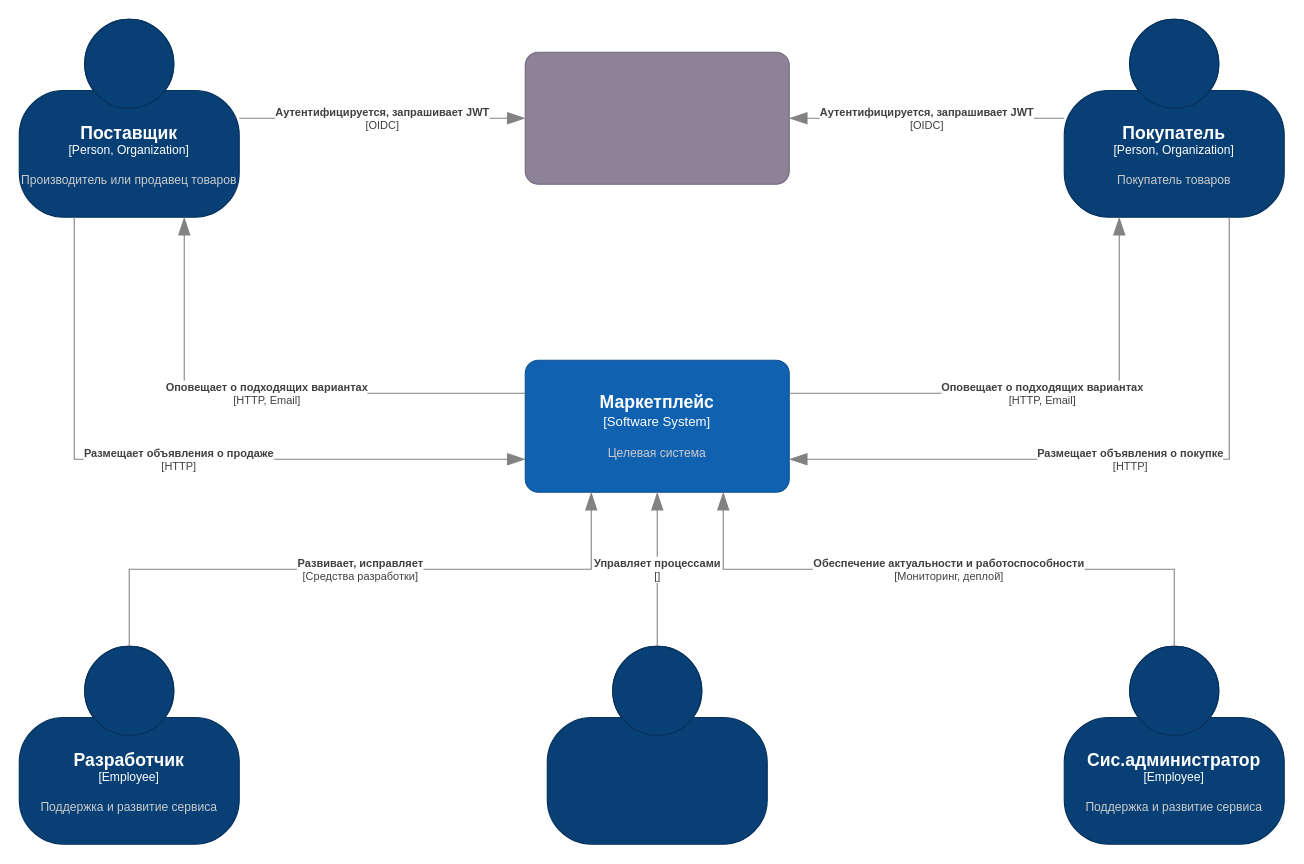
The diagram is 1304 pixels wide and 864 high, and some of its shapes have lost their labels. Each missing label, with the centre of its shape:
"Identity Service [Software System] Аутентификация, форма входа" belongs at (656,117).
"Менеджер [Employee] Управление процессами" belongs at (656,744).
